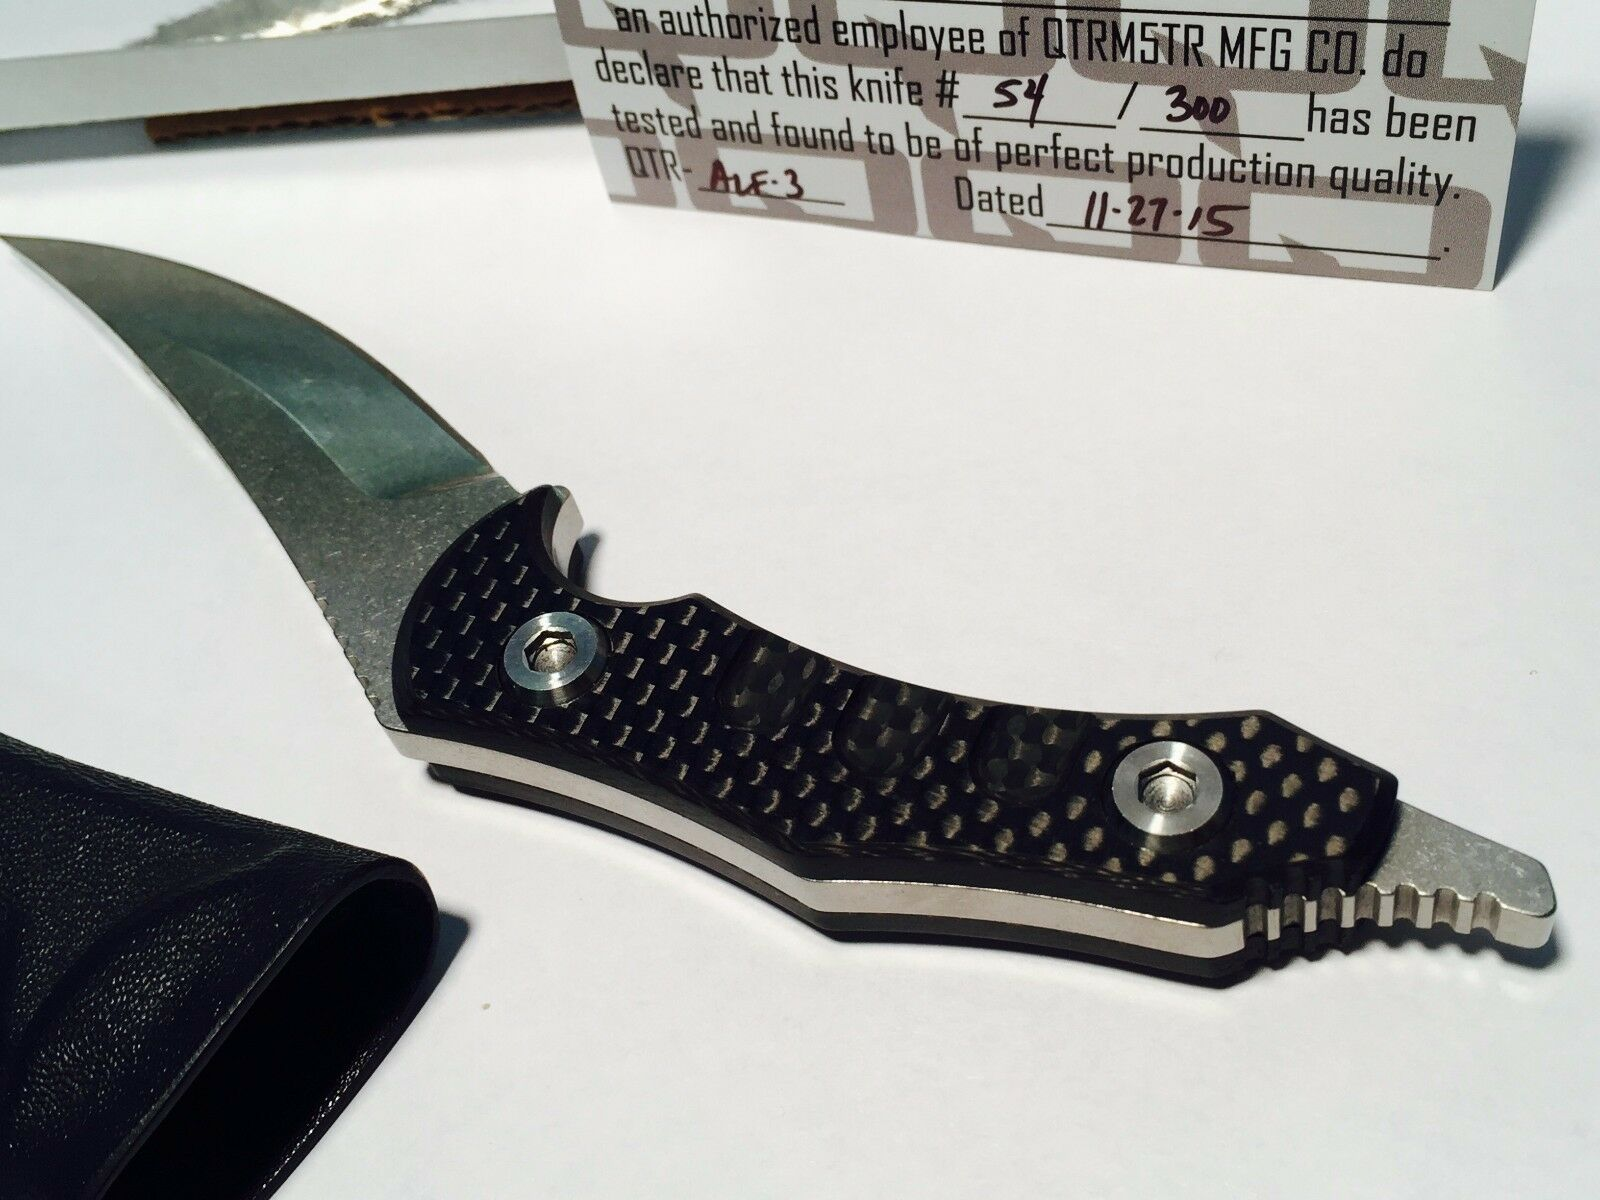knief: (6, 209, 1579, 942)
